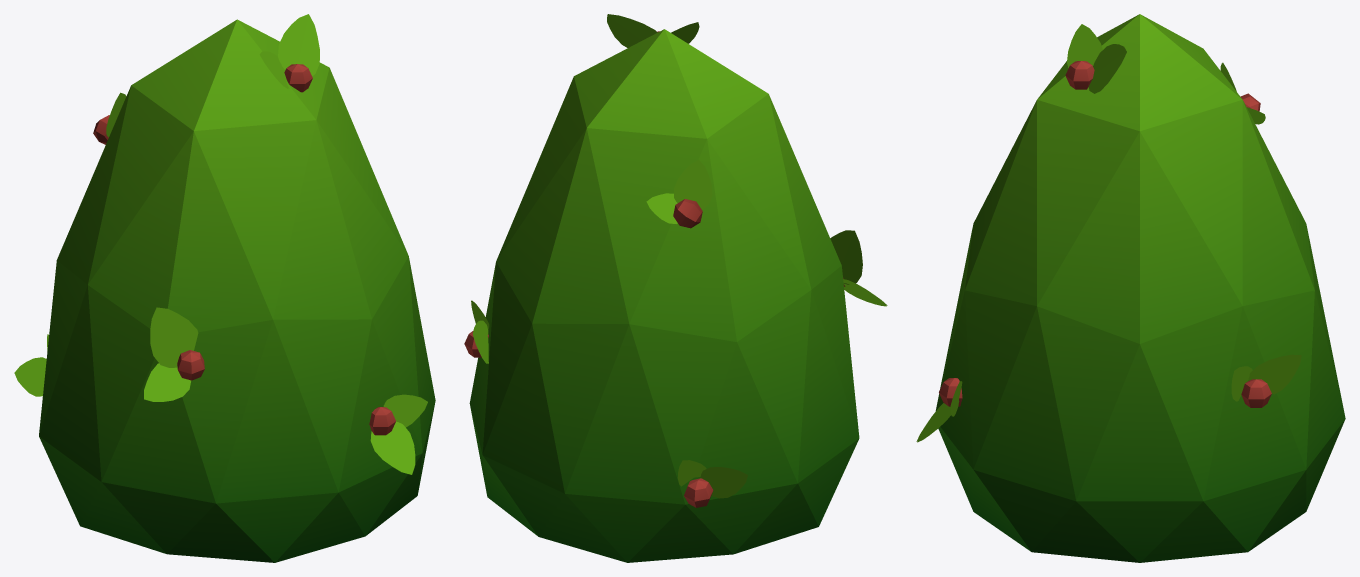
File: bush_2.fbx
3 renders of one model, left to right at view 1: azimuth 30°, elevation 25°; view 2: azimuth 150°, elevation 25°; view 3: azimuth 270°, elevation 25°, orthographic. The views are drawn at different scales.
Parts seen in each view (by area): view 1: bush_2; view 2: bush_2; view 3: bush_2.
Boxes of the visible parts, x1,y1,x2,y2 form: bush_2: (14,14,435,562); bush_2: (464,14,887,562); bush_2: (916,14,1345,562).
Size of the model in its own units: 1.54 by 2.13 by 1.68.
